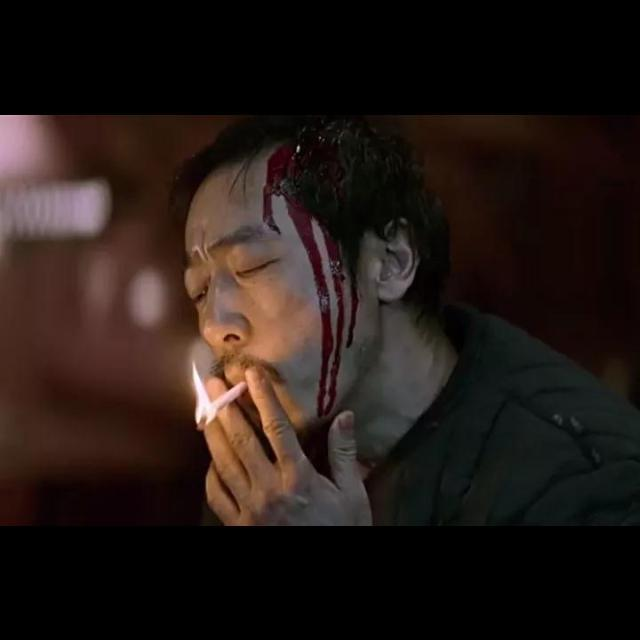rokok: (195, 378, 258, 414)
